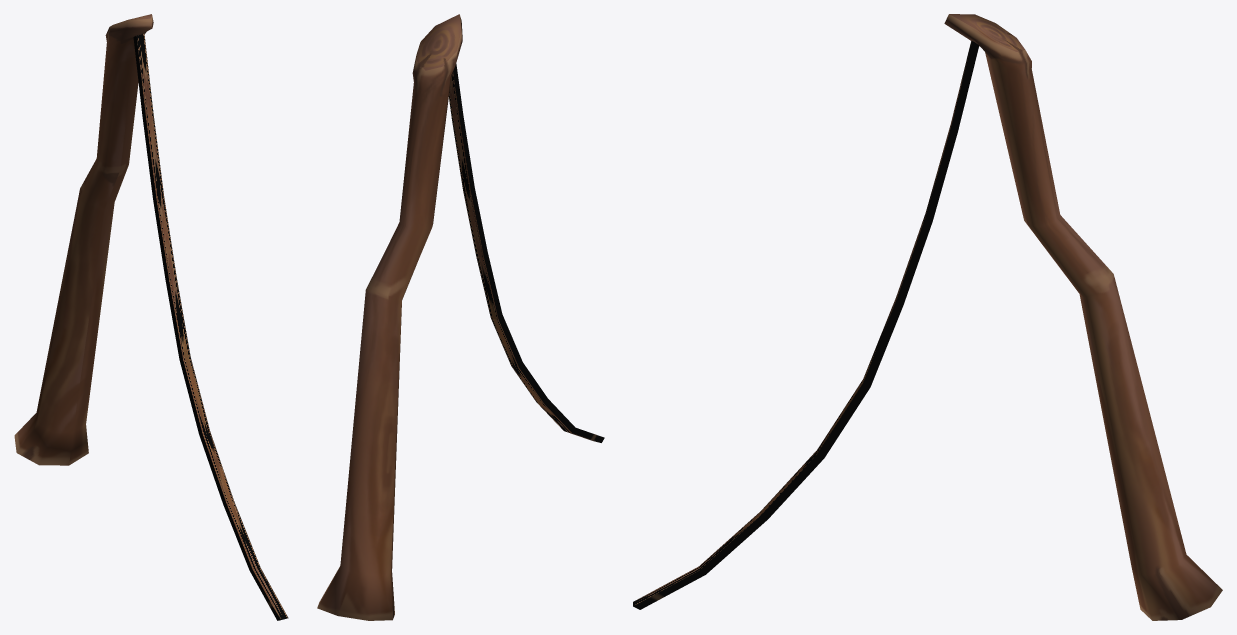
File: SM_FishingRod_01.fbx
3 renders of one model, left to right at view 1: azimuth 30°, elevation 25°; view 2: azimuth 150°, elevation 25°; view 3: azimuth 270°, elevation 25°, orthographic. The views are drawn at different scales.
Visible parts, largest first — view 1: FishingRod; view 2: FishingRod; view 3: FishingRod.
Part boxes in pixels (x1,y1,x2,y2): FishingRod: (14,14,288,620); FishingRod: (317,14,604,620); FishingRod: (633,14,1222,620).
Bounding box in the file's own units: 32.81 × 226 × 203.
